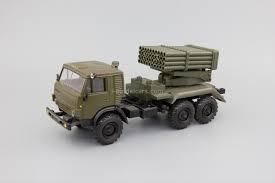MIL_SAM_TEL: (50, 43, 218, 148)
